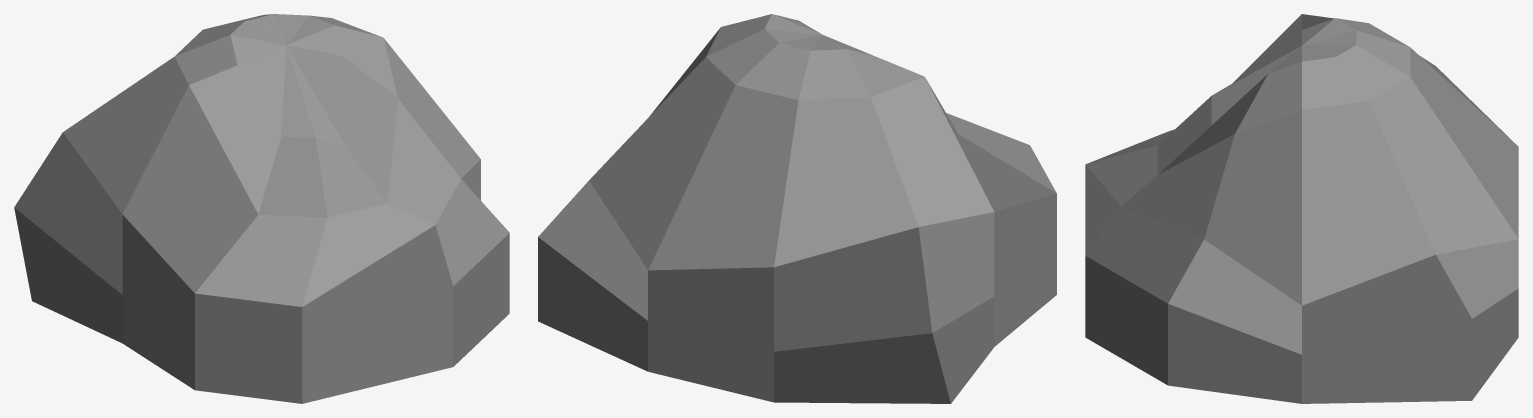
File: Rock.fbx
The picture shows the model from 3 angles, left to right: view 1: azimuth 30°, elevation 25°; view 2: azimuth 150°, elevation 25°; view 3: azimuth 270°, elevation 25°; orthographic projection. The views are drawn at different scales.
Parts seen in each view (by area): view 1: cylinder; view 2: cylinder; view 3: cylinder.
Part boxes in pixels (x1=…): cylinder: x1=14, y1=14, x2=509, y2=403; cylinder: x1=538, y1=14, x2=1056, y2=403; cylinder: x1=1085, y1=14, x2=1518, y2=403.
Bounding box in the file's own units: 77.58 × 51.56 × 75.
Materials: 1 (1 with a texture image).
